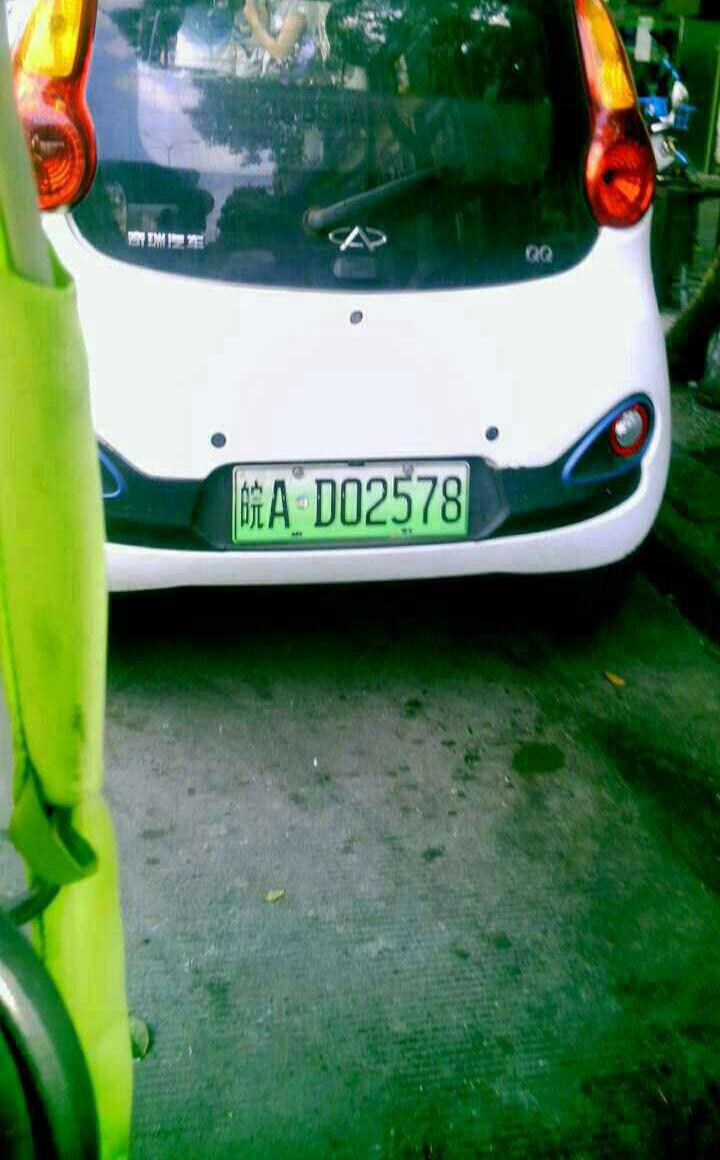car_id: (234, 464, 470, 544)
